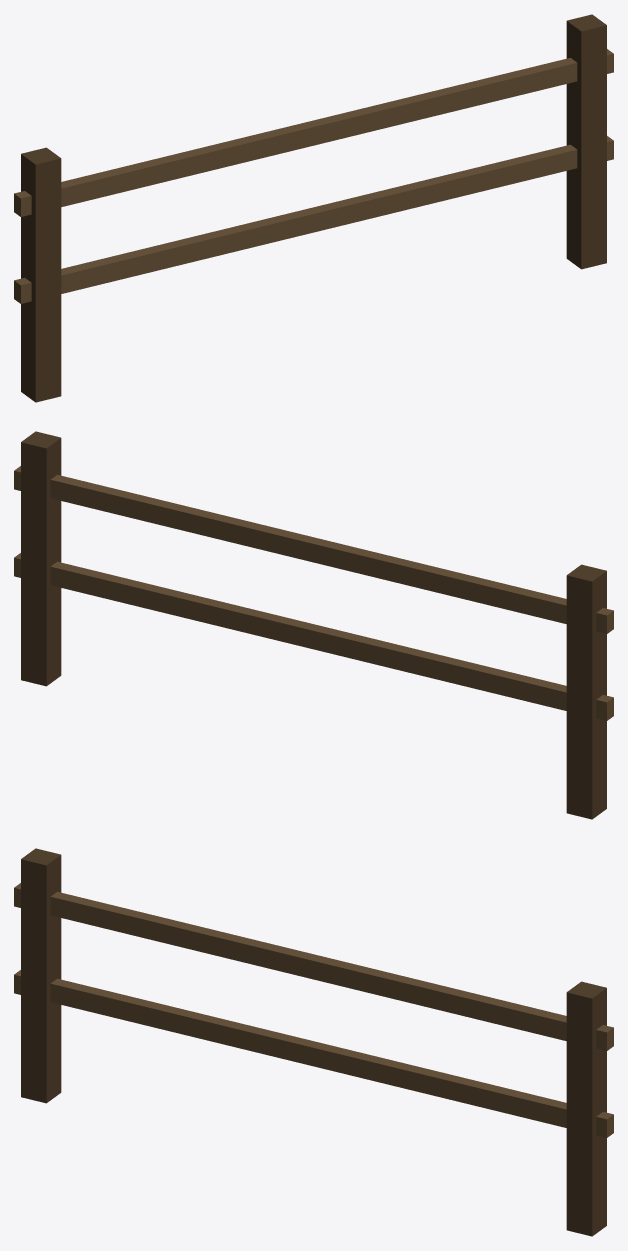
3 views of the same model, one above another, from view 1: azimuth 30°, elevation 25°; view 2: azimuth 150°, elevation 25°; view 3: azimuth 330°, elevation 25° (orthographic).
Parts seen in each view (by area): view 1: alpine-body; view 2: alpine-body; view 3: alpine-body.
Boxes of the visible parts, x1,y1,x2,y2 form: alpine-body: (14, 14, 613, 402); alpine-body: (14, 431, 613, 819); alpine-body: (14, 848, 613, 1236).
Bounding box in the file's own units: 3 × 1.15 × 0.13.
